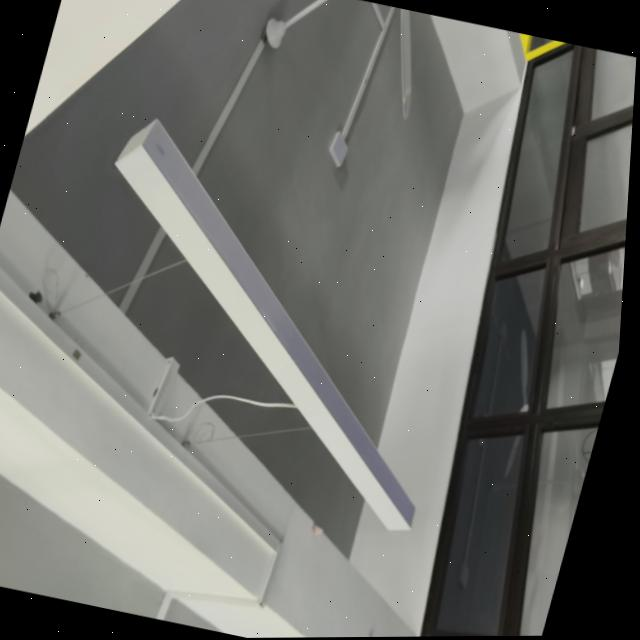light_off: (32, 95, 517, 542)
